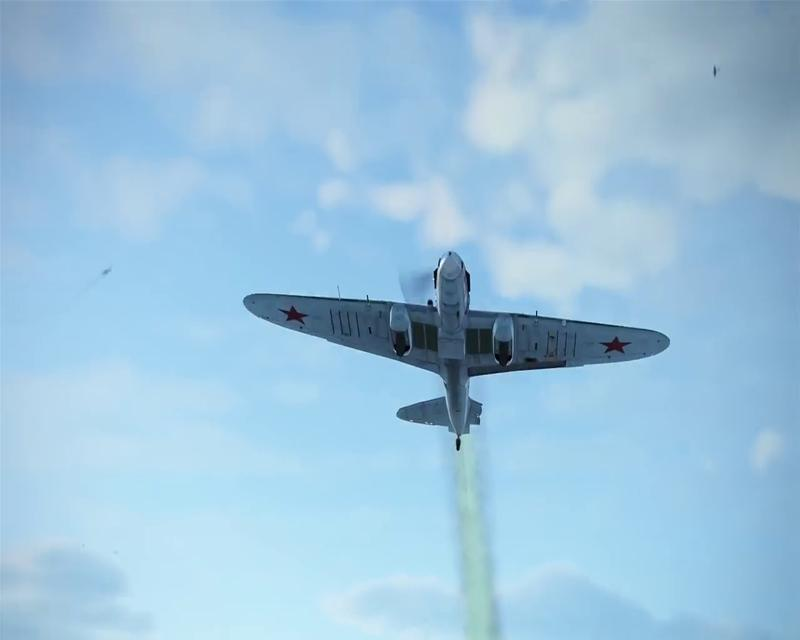UAV: (242, 250, 672, 452)
